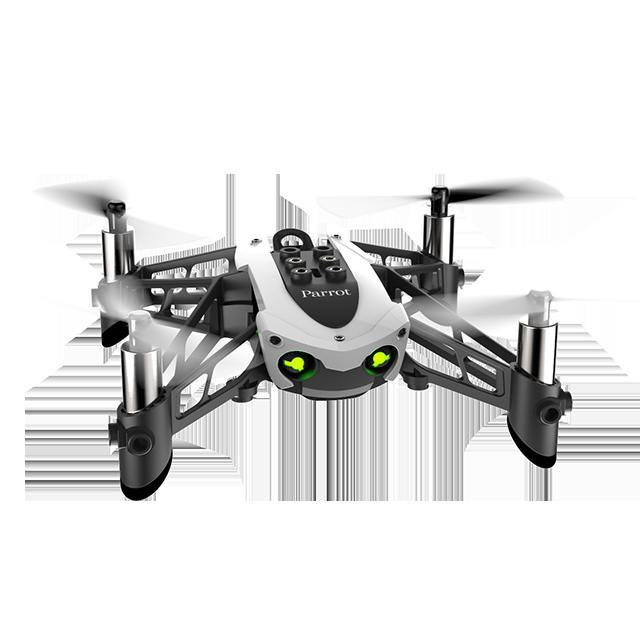drones: (0, 138, 608, 470)
